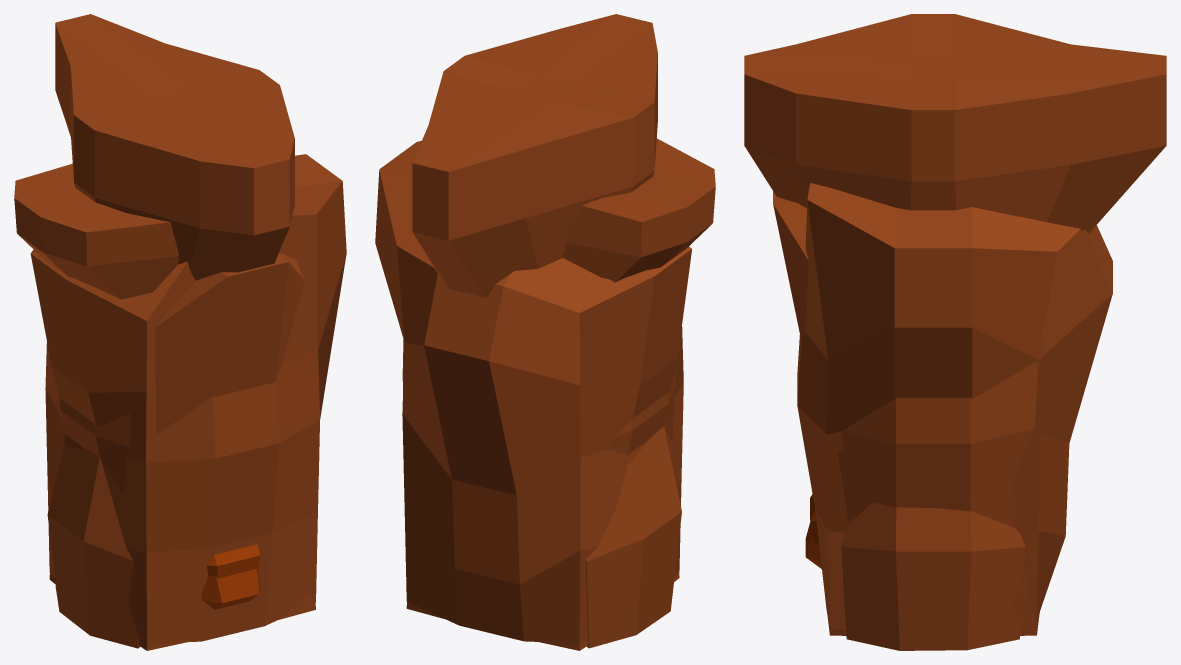
File: Canyon Assets.fbx
The picture shows the model from 3 angles, left to right: view 1: azimuth 30°, elevation 25°; view 2: azimuth 150°, elevation 25°; view 3: azimuth 270°, elevation 25°; orthographic projection. The views are drawn at different scales.
Parts seen in each view (by area): view 1: Canyon Module Type A, Canyon Module Type B, Canyon Module Type A No.2, Canyon Module Type B No.2, Tunnel, Rock Module Type B, Rock Module Type A; view 2: Canyon Module Type A, Canyon Module Type B, Tunnel, Canyon Module Type B No.2, Canyon Module Type A No.2; view 3: Canyon Module Type A, Canyon Module Type B, Canyon Module Type A No.2, Tunnel.
Boxes of the visible parts, x1,y1,x2,y2 form: Canyon Module Type A: [30, 154, 346, 643]; Canyon Module Type B: [55, 14, 294, 280]; Canyon Module Type A No.2: [49, 252, 315, 650]; Canyon Module Type B No.2: [14, 163, 178, 299]; Tunnel: [47, 444, 140, 648]; Rock Module Type B: [201, 569, 260, 609]; Rock Module Type A: [206, 544, 260, 578]; Canyon Module Type A: [375, 140, 691, 643]; Canyon Module Type B: [412, 14, 657, 297]; Tunnel: [586, 426, 681, 648]; Canyon Module Type B No.2: [563, 138, 715, 282]; Canyon Module Type A No.2: [402, 322, 679, 650]; Canyon Module Type A: [797, 183, 1112, 630]; Canyon Module Type B: [744, 14, 1166, 232]; Canyon Module Type A No.2: [773, 191, 1051, 635]; Tunnel: [841, 502, 1025, 650].
Bounding box in the file's own units: 1129 × 1792 × 1292.
